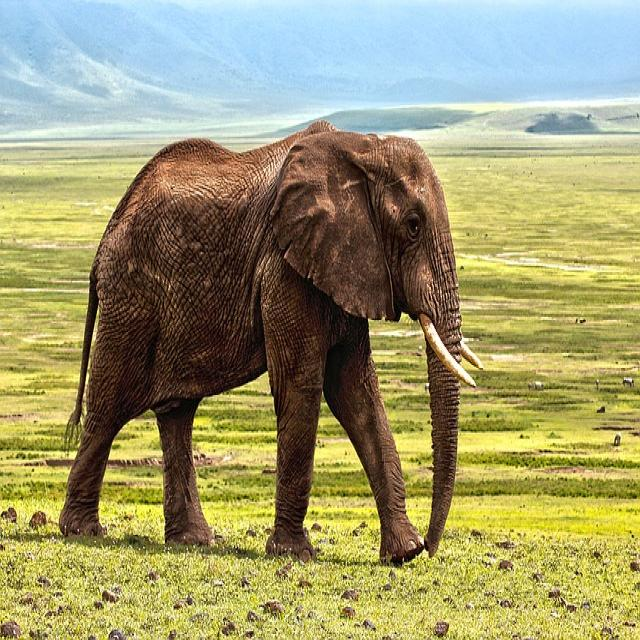elephant: (59, 122, 480, 562)
